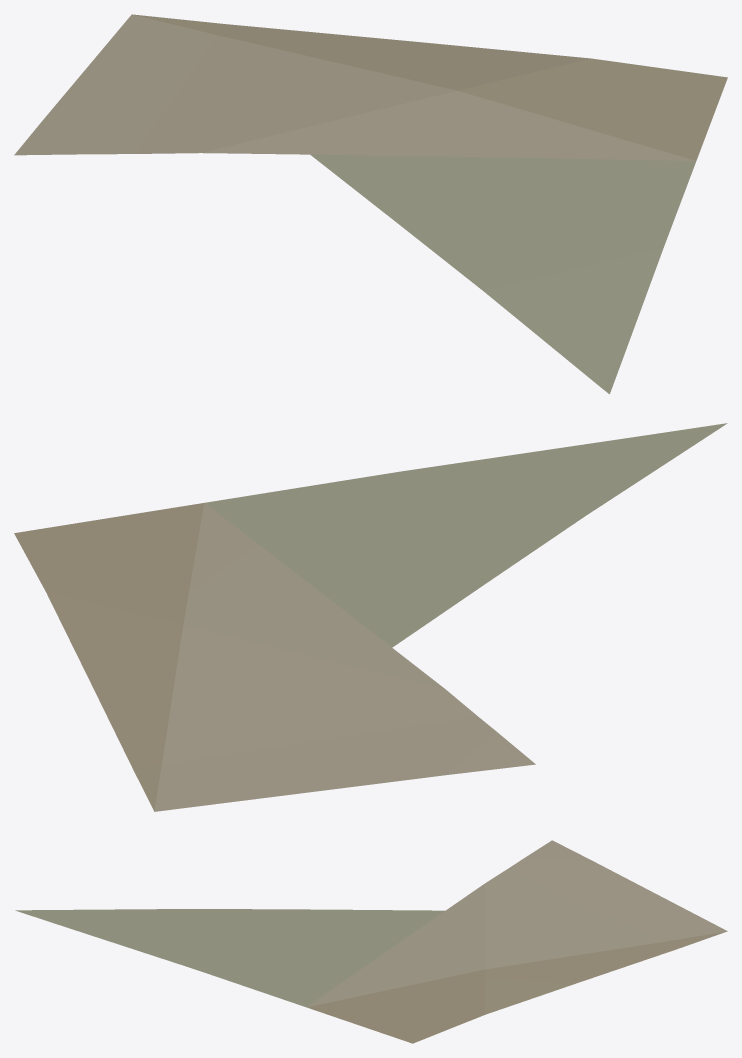
File: farm_-35_-25_soil.glb
The picture shows the model from 3 angles, top to bottom: view 1: azimuth 30°, elevation 25°; view 2: azimuth 150°, elevation 25°; view 3: azimuth 270°, elevation 25°; orthographic projection. The views are drawn at different scales.
Parts seen in each view (by area): view 1: geometry_0; view 2: geometry_0; view 3: geometry_0.
Boxes of the visible parts, bbox=[...] form: geometry_0: bbox=[14, 14, 727, 394]; geometry_0: bbox=[14, 423, 727, 811]; geometry_0: bbox=[15, 840, 727, 1043].
Size of the model in its own units: 135 by 3.59 by 198.
